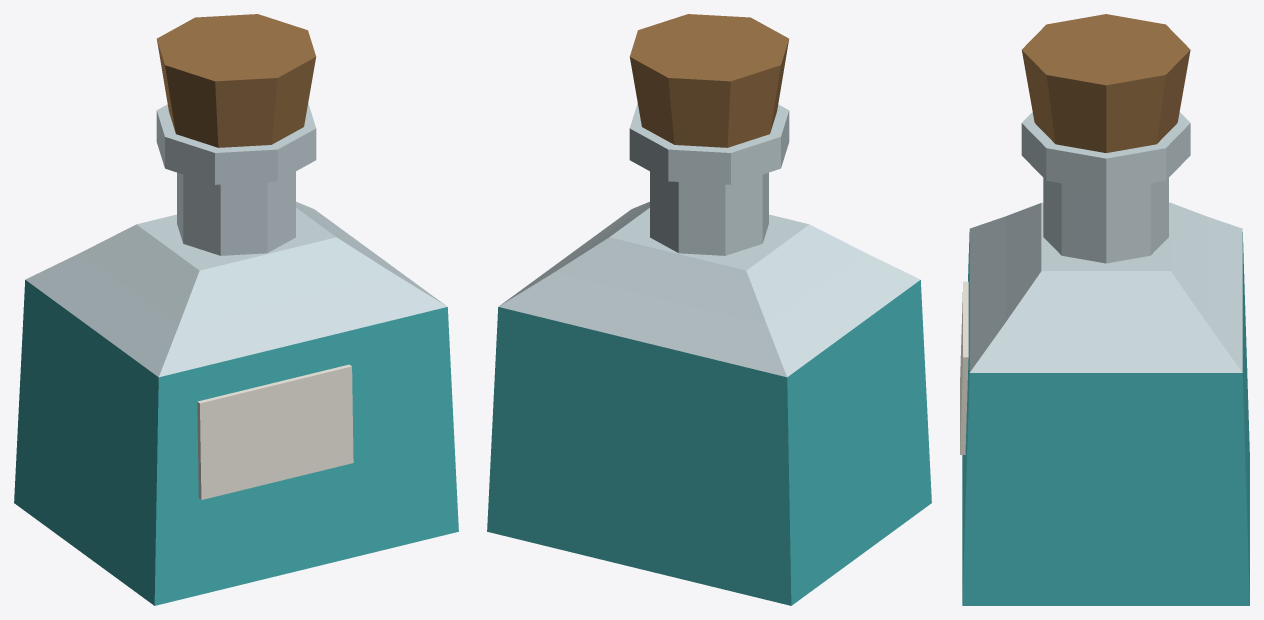
Rendered from vfem2_draught_antitox.obj.
3 renders of one model, left to right at view 1: azimuth 30°, elevation 25°; view 2: azimuth 150°, elevation 25°; view 3: azimuth 270°, elevation 25°, orthographic. The views are drawn at different scales.
Parts seen in each view (by area): view 1: vfem2_draught_antitox; view 2: vfem2_draught_antitox; view 3: vfem2_draught_antitox.
Boxes of the visible parts, box(x1,y1,x2,y2) form: vfem2_draught_antitox: box(14, 14, 458, 605); vfem2_draught_antitox: box(487, 14, 931, 605); vfem2_draught_antitox: box(960, 14, 1249, 605).
Bounding box in the file's own units: 0.2 × 0.295 × 0.1613.
